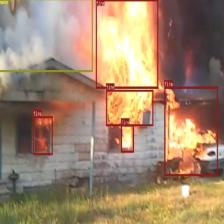fire: (95, 0, 158, 88), (164, 86, 218, 176), (106, 90, 153, 126), (32, 116, 52, 155), (121, 124, 134, 152)
smoke: (0, 0, 92, 71)
